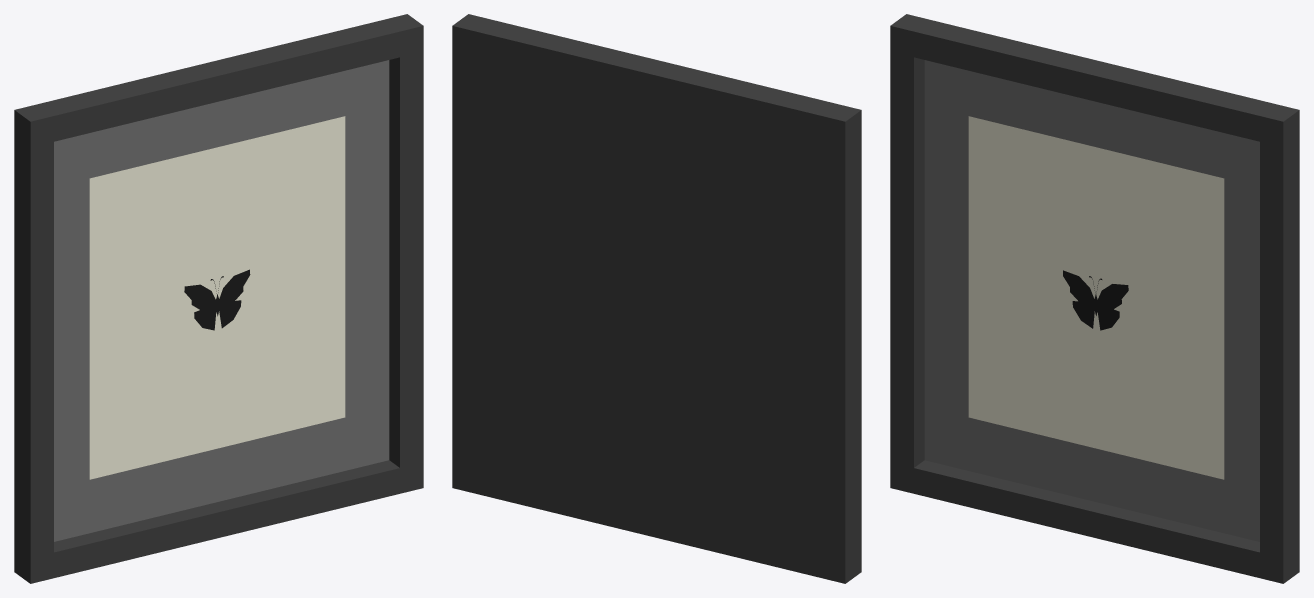
The model's file is picture_048.glb.
The picture shows the model from 3 angles, left to right: view 1: azimuth 30°, elevation 25°; view 2: azimuth 150°, elevation 25°; view 3: azimuth 330°, elevation 25°; orthographic projection.
Visible parts, largest first — view 1: picture_048; view 2: picture_048; view 3: picture_048.
Part boxes in pixels (bbox=[...]): picture_048: bbox=[14, 14, 423, 583]; picture_048: bbox=[452, 14, 861, 583]; picture_048: bbox=[890, 14, 1299, 583].
Size of the model in its own units: 0.5537 by 0.6221 by 0.0395.
1 material, 1 textured.
